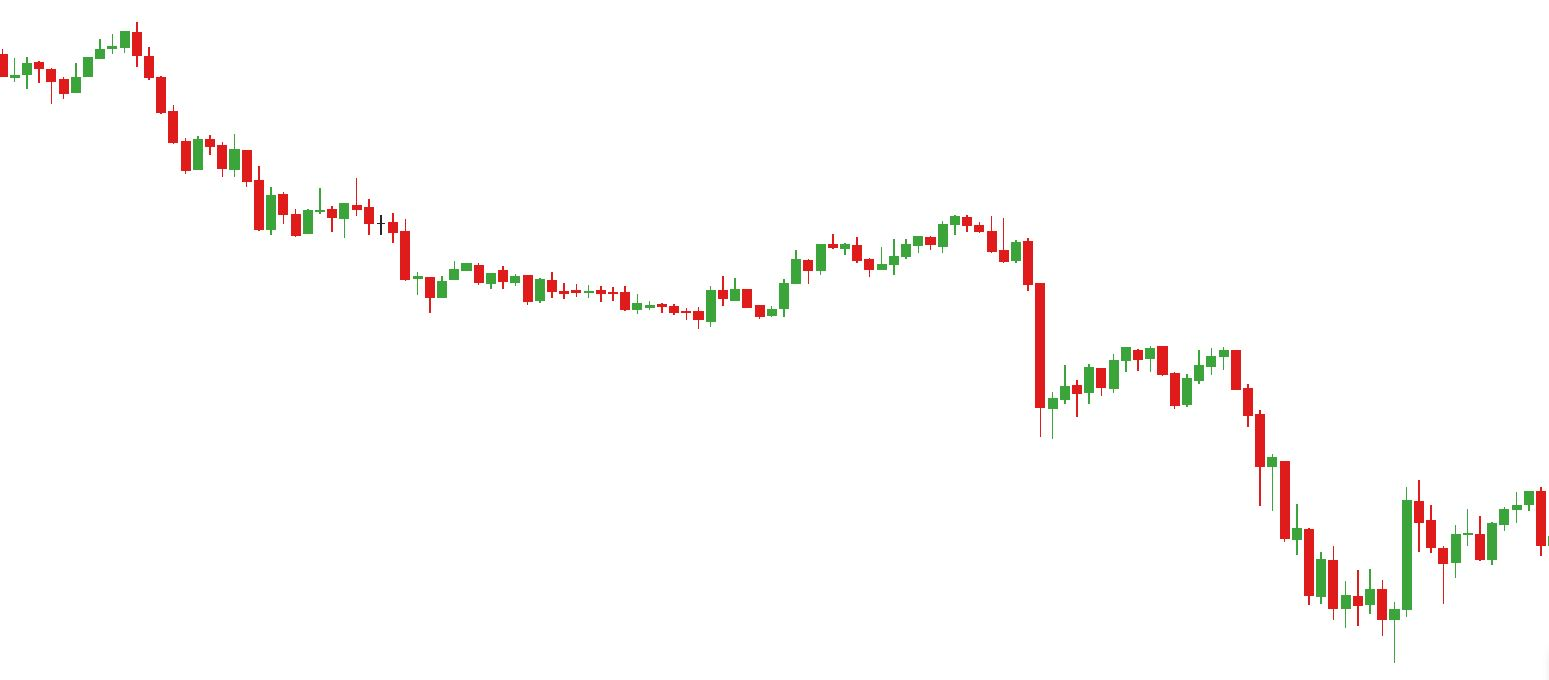sell: (21, 19, 145, 76)
